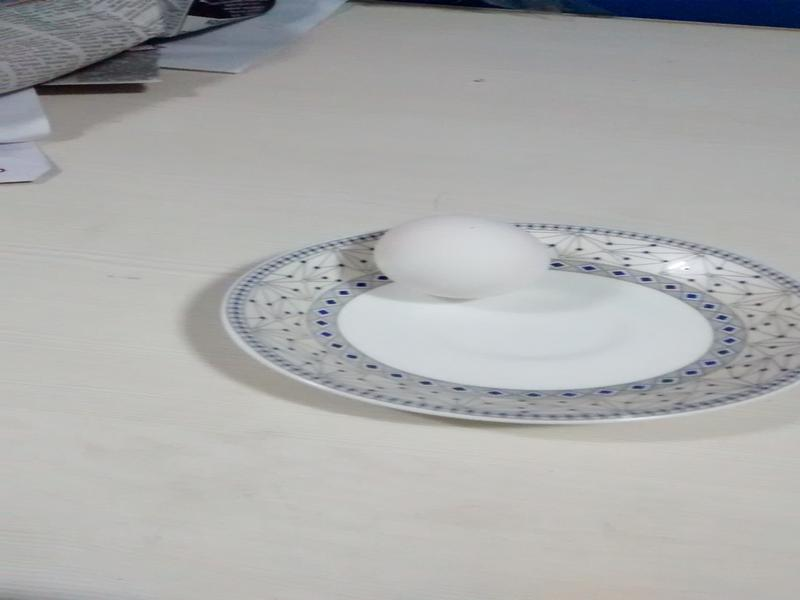egg: (377, 216, 556, 300)
